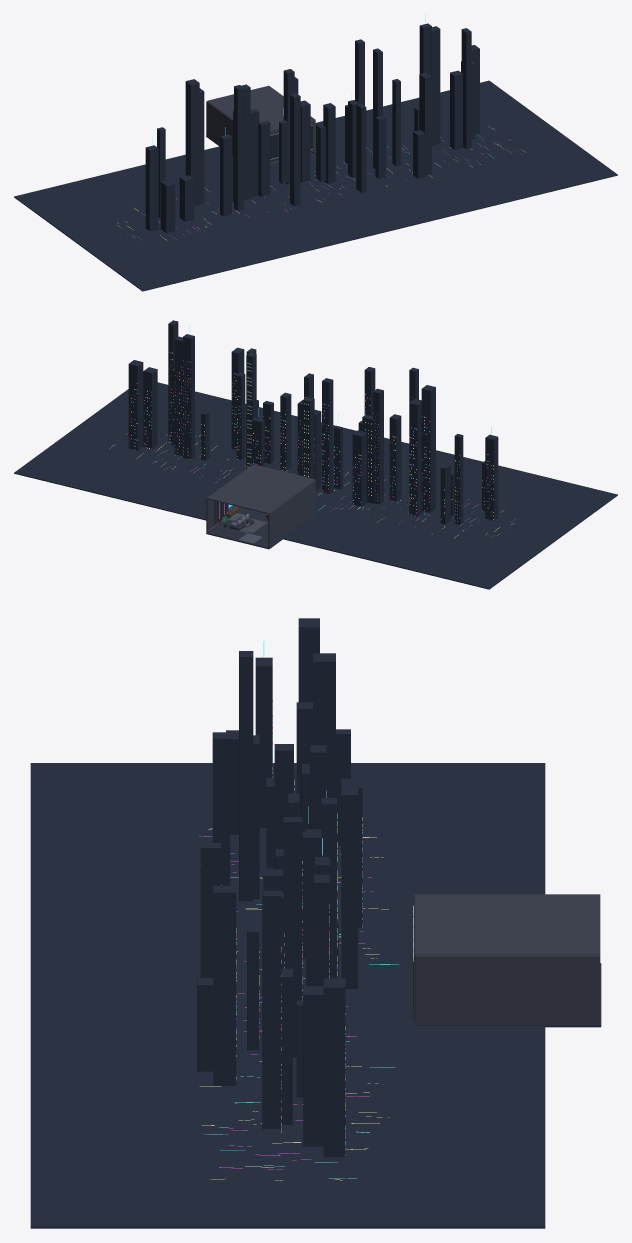
File: skyline_penthouse.glb
3 views of the same model, one above another, from view 1: azimuth 30°, elevation 25°; view 2: azimuth 150°, elevation 25°; view 3: azimuth 270°, elevation 25° (orthographic). The views are drawn at different scales.
Visible parts, largest first — view 1: Distant harbour water, Harbour skyline tower 5, Floating ceiling plane, Harbour skyline tower 8, Harbour skyline tower 13, Harbour skyline tower 0, Harbour skyline tower 31, Harbour skyline tower 29, Harbour skyline tower 26, Harbour skyline tower 30, Harbour skyline tower 12, Harbour skyline tower 7 (+22 smaller); view 2: Distant harbour water, Floating ceiling plane, Harbour skyline tower 5, Left graphite plaster wall, Harbour skyline tower 6, Harbour skyline tower 28, Harbour skyline tower 33, Harbour skyline tower 15, Harbour skyline tower 32, Harbour skyline tower 0, Harbour skyline tower 11, Harbour skyline tower 9 (+19 smaller); view 3: Distant harbour water, Right graphite plaster wall, Floating ceiling plane, Harbour skyline tower 26, Harbour skyline tower 31, Harbour skyline tower 33, Harbour skyline tower 8, Central spire, Harbour skyline tower 23, Harbour skyline tower 32, Harbour skyline tower 6, Harbour skyline tower 13 (+17 smaller).
Boxes of the visible parts, bbox=[...] form: Distant harbour water: bbox=[14, 80, 617, 291]; Harbour skyline tower 5: bbox=[185, 79, 199, 206]; Floating ceiling plane: bbox=[207, 85, 314, 130]; Harbour skyline tower 8: bbox=[234, 85, 243, 210]; Harbour skyline tower 13: bbox=[290, 93, 300, 205]; Harbour skyline tower 0: bbox=[145, 145, 158, 231]; Harbour skyline tower 31: bbox=[461, 28, 471, 149]; Harbour skyline tower 29: bbox=[431, 26, 440, 145]; Harbour skyline tower 26: bbox=[419, 73, 431, 175]; Harbour skyline tower 30: bbox=[450, 70, 462, 149]; Harbour skyline tower 12: bbox=[258, 120, 270, 196]; Harbour skyline tower 7: bbox=[220, 134, 231, 216]; Distant harbour water: bbox=[14, 382, 617, 589]; Floating ceiling plane: bbox=[207, 464, 314, 513]; Harbour skyline tower 5: bbox=[421, 385, 435, 512]; Left graphite plaster wall: bbox=[268, 479, 315, 547]; Harbour skyline tower 6: bbox=[409, 398, 423, 516]; Harbour skyline tower 28: bbox=[183, 334, 194, 459]; Harbour skyline tower 33: bbox=[128, 360, 143, 450]; Harbour skyline tower 15: bbox=[322, 378, 333, 493]; Harbour skyline tower 32: bbox=[143, 367, 157, 448]; Harbour skyline tower 0: bbox=[485, 434, 498, 520]; Harbour skyline tower 11: bbox=[352, 430, 366, 506]; Harbour skyline tower 9: bbox=[389, 414, 401, 501]; Distant harbour water: bbox=[30, 763, 545, 1228]; Right graphite plaster wall: bbox=[415, 955, 600, 1024]; Floating ceiling plane: bbox=[415, 894, 600, 955]; Harbour skyline tower 26: bbox=[213, 885, 236, 1085]; Harbour skyline tower 31: bbox=[262, 890, 281, 1128]; Harbour skyline tower 33: bbox=[323, 978, 345, 1157]; Harbour skyline tower 8: bbox=[239, 651, 253, 901]; Central spire: bbox=[341, 787, 358, 988]; Harbour skyline tower 23: bbox=[283, 817, 302, 1057]; Harbour skyline tower 32: bbox=[303, 986, 323, 1146]; Harbour skyline tower 6: bbox=[313, 653, 335, 797]; Harbour skyline tower 13: bbox=[212, 732, 230, 885].
Bounding box in the file's own units: 64 × 17.61 × 33.26.
